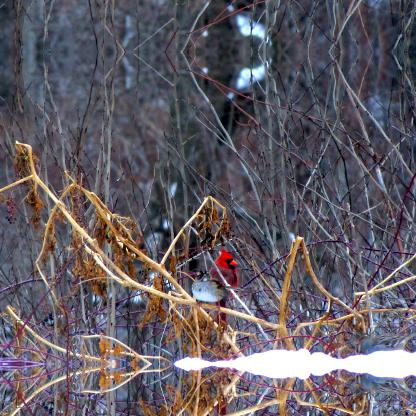Bird: (210, 250, 238, 328), (192, 270, 224, 306), (210, 399, 239, 415)
